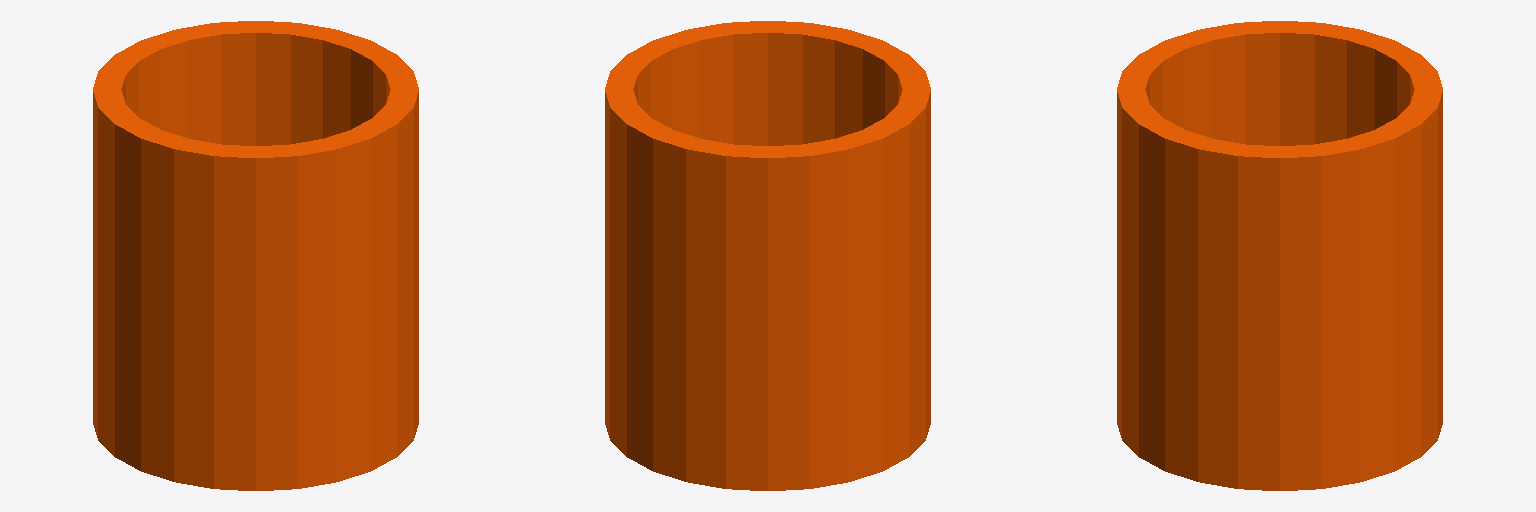
robot.urdf — Mug_6a9b31e1298ca1109c515ccf0f61e75f_handle:
<?xml version="1.0" ?>
<robot name="Mug_6a9b31e1298ca1109c515ccf0f61e75f_handle">
   <material name="obj_color">
      <color rgba="1.0 0.423529411765 0.0392156862745 1.0"/>
   </material>
   <link name="top">
      <inertial>
         <origin rpy="1.145076540105708e-05 4.337356236604433e-05 5.316445387008252e-05" xyz="-0.04888517731914972 0.003776910480828707 0.002329343694551995"/>
         <mass value="0.05793266011505923"/>
         <inertia ixx="4.33734559778464e-05" ixy="-5.278543657702833e-11" ixz="-5.827698180427687e-08" iyy="5.316445386979792e-05" iyz="6.38183085994422e-14" izz="1.145087178953959e-05"/>
      </inertial>
      <visual>
         <origin rpy="0 0 0" xyz="0 0 0"/>
         <geometry>
            <mesh filename="top_watertight_tiny.stl" scale="1 1 1"/>
         </geometry>
         <material name="obj_color"/>
      </visual>
      <collision>
         <origin rpy="0 0 0" xyz="0 0 0"/>
         <geometry>
            <mesh filename="top_watertight_tiny.obj" scale="1 1 1"/>
         </geometry>
      </collision>
   </link>
   <link name="bottom">
      <inertial>
         <origin rpy="0.0007966073800054548 0.001078148432280896 0.001078149397333554" xyz="0.01447774999996061 -0.0008085009463862627 0.001602000000000001"/>
         <mass value="0.7220608470211345"/>
         <inertia ixx="0.001078148432280896" ixy="9.857983084354158e-15" ixz="9.727644003623605e-21" iyy="0.001078149397333555" iyz="1.053828100392557e-20" izz="0.0007966073800054549"/>
      </inertial>
      <visual>
         <origin rpy="0 0 0" xyz="0 0 0"/>
         <geometry>
            <mesh filename="bottom_watertight_tiny.stl" scale="1 1 1"/>
         </geometry>
         <material name="obj_color"/>
      </visual>
      <collision>
         <origin rpy="0 0 0" xyz="0 0 0"/>
         <geometry>
            <mesh filename="bottom_watertight_tiny.obj" scale="1 1 1"/>
         </geometry>
      </collision>
   </link>
   <joint name="rotation" type="revolute">
      <origin xyz="0 0 0"/>
      <axis xyz="0 0 -1"/>
      <parent link="bottom"/>
      <child link="top"/>
      <dynamics damping="1.0" friction="1.0"/>
      <limit effort="0.1" velocity="0.1" lower="0" upper="0.001"/>
   </joint>
</robot>

--- Facts derived from the render (not from the file) ---
Views: 3 orthographic renders of the robot side by side, from view 1: azimuth 30°, elevation 25°; view 2: azimuth 150°, elevation 25°; view 3: azimuth 270°, elevation 25°.
Robot: Mug_6a9b31e1298ca1109c515ccf0f61e75f_handle — 2 links, 1 joints (1 revolute); root link bottom; default pose: all joints at 0.
Visible links, largest first — view 1: bottom; view 2: bottom; view 3: bottom.
Link boxes in pixels (x1=…): bottom: x1=93, y1=21, x2=418, y2=490; bottom: x1=605, y1=21, x2=930, y2=490; bottom: x1=1117, y1=21, x2=1442, y2=490.
Size in the robot's own frame: 0.0945 by 0.0945 by 0.1063 metres.
1 mesh visuals loaded from 2 distinct referenced files (1 binary STL); not drawn: 1 (reference not matched to a file when rendering).